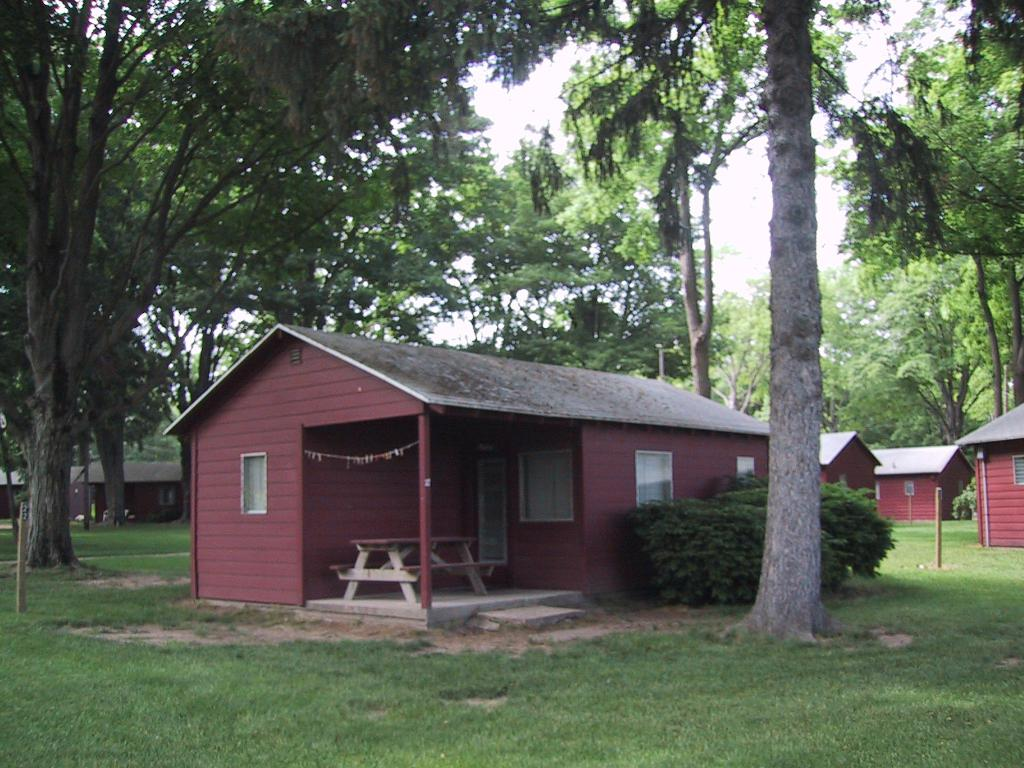Tree: (204, 0, 970, 638), (0, 0, 348, 571), (842, 0, 1023, 462)
